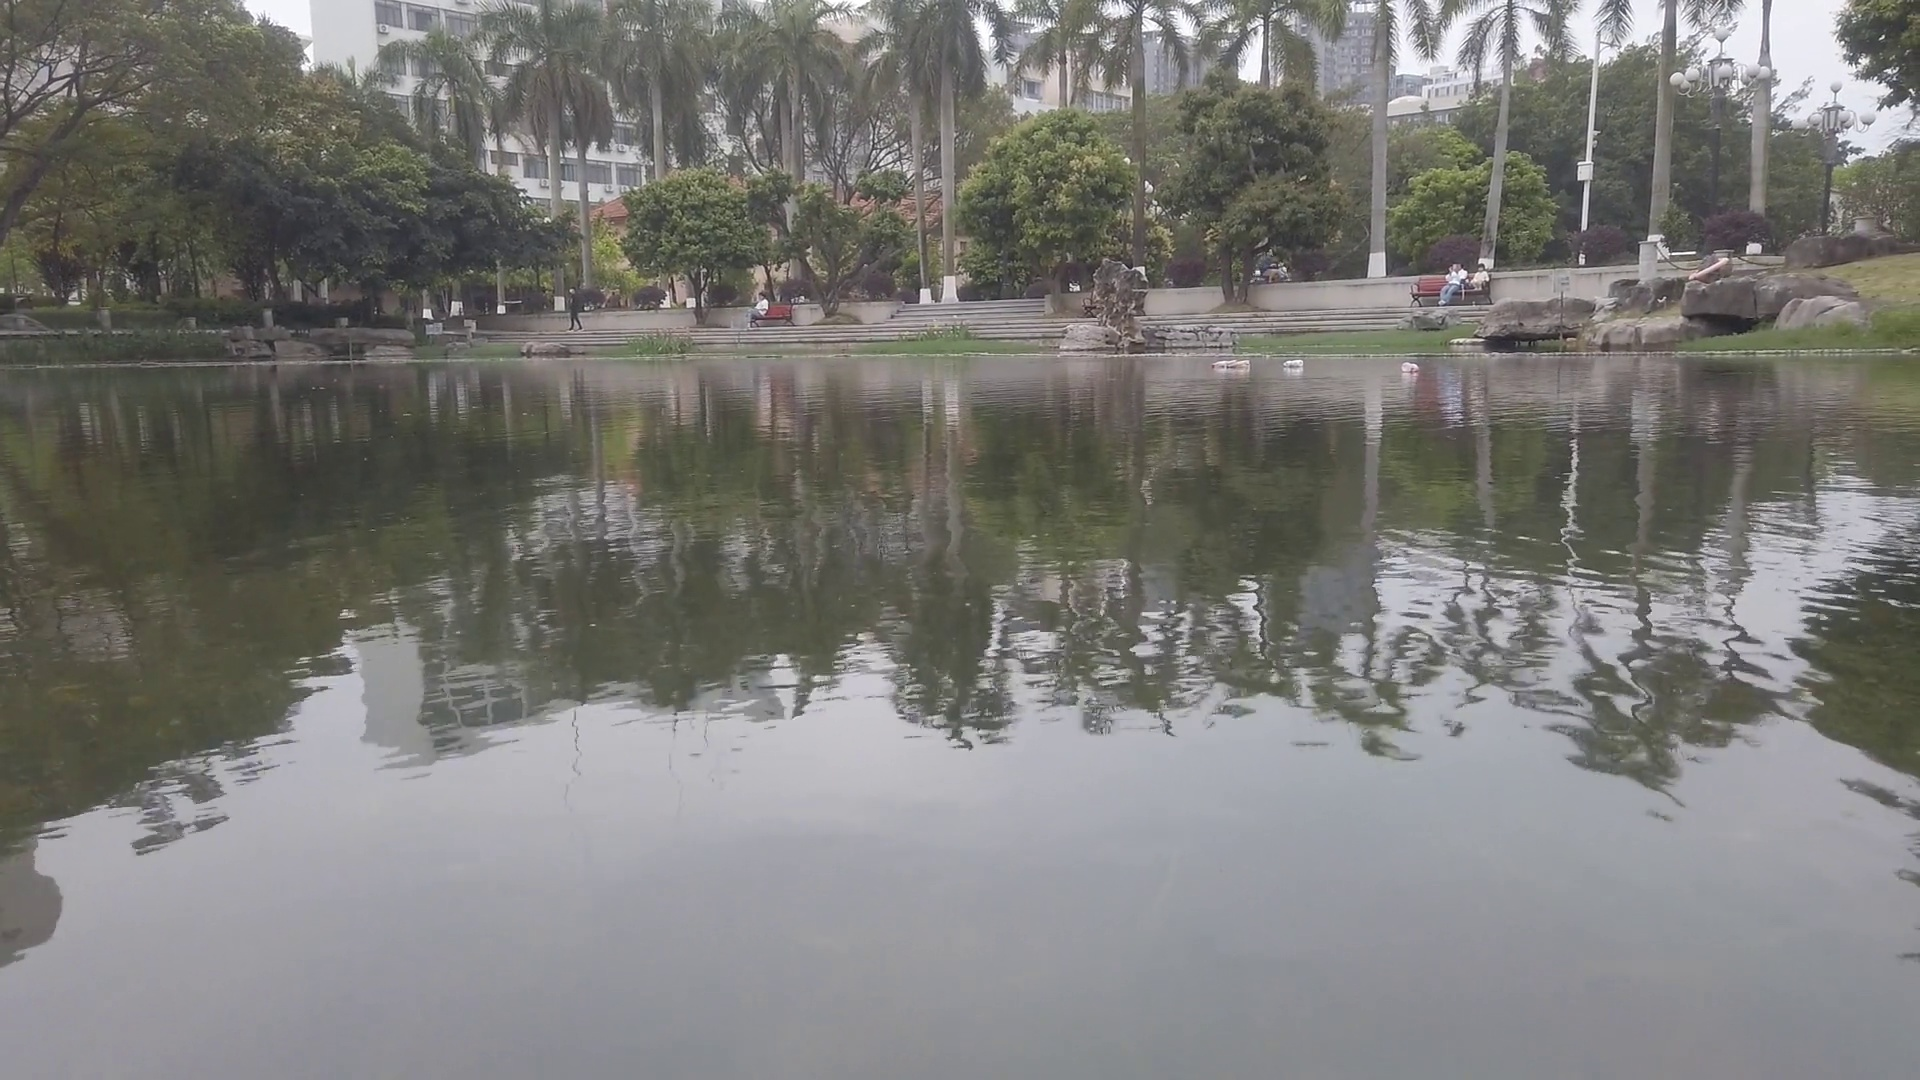bottle: (1402, 363, 1419, 372), (1211, 361, 1236, 367), (1283, 360, 1303, 367), (1226, 361, 1250, 367)
